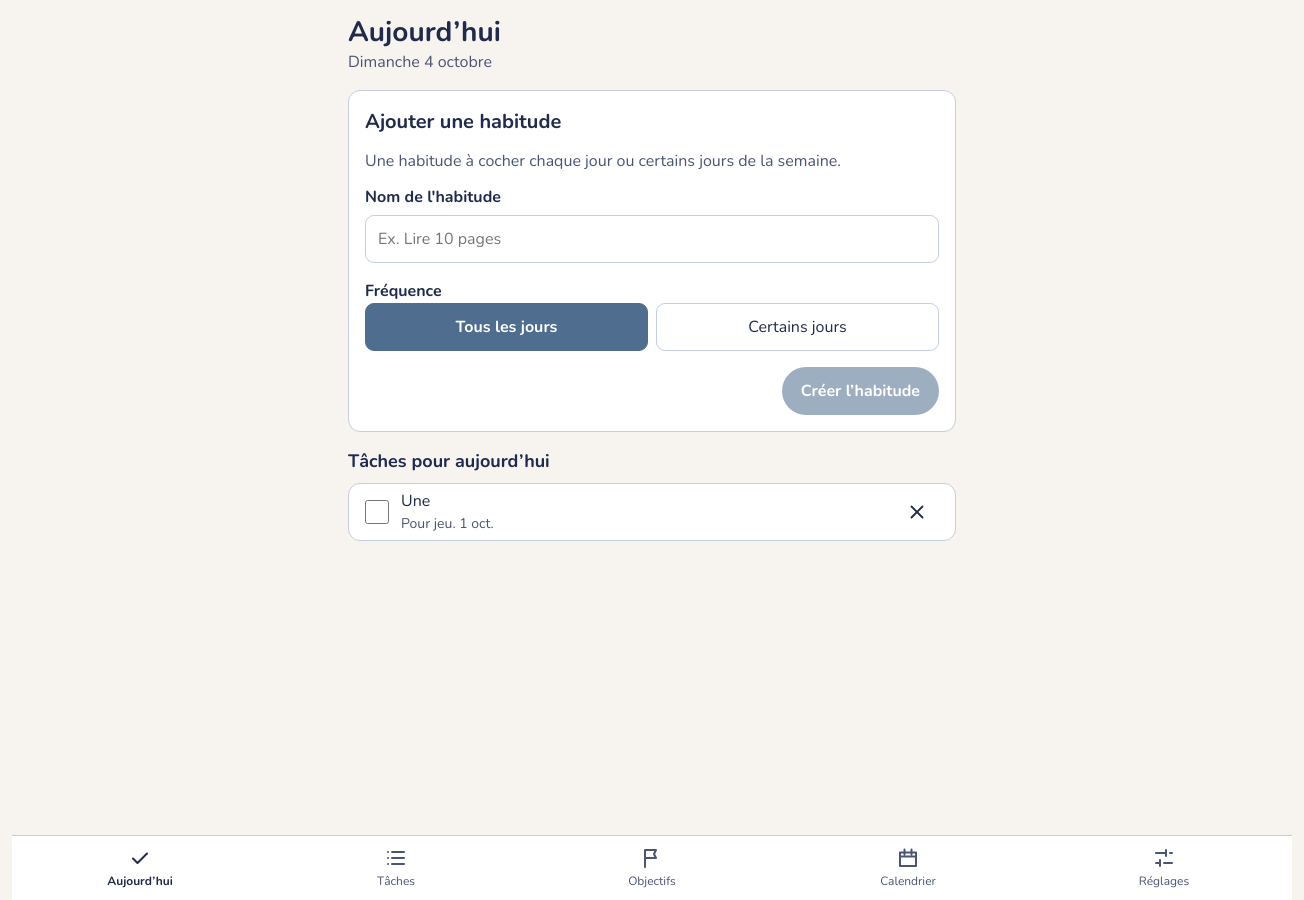
Test: écrans Tâches et Objectifs selon le thème › Montagne : la case à cocher d’une tâche garde le même nom, le même rôle et le même clavier
This screenshot has width=1304, height=900.
Click the button "Tâches". click: (396, 868)
box: [268, 836, 524, 899]
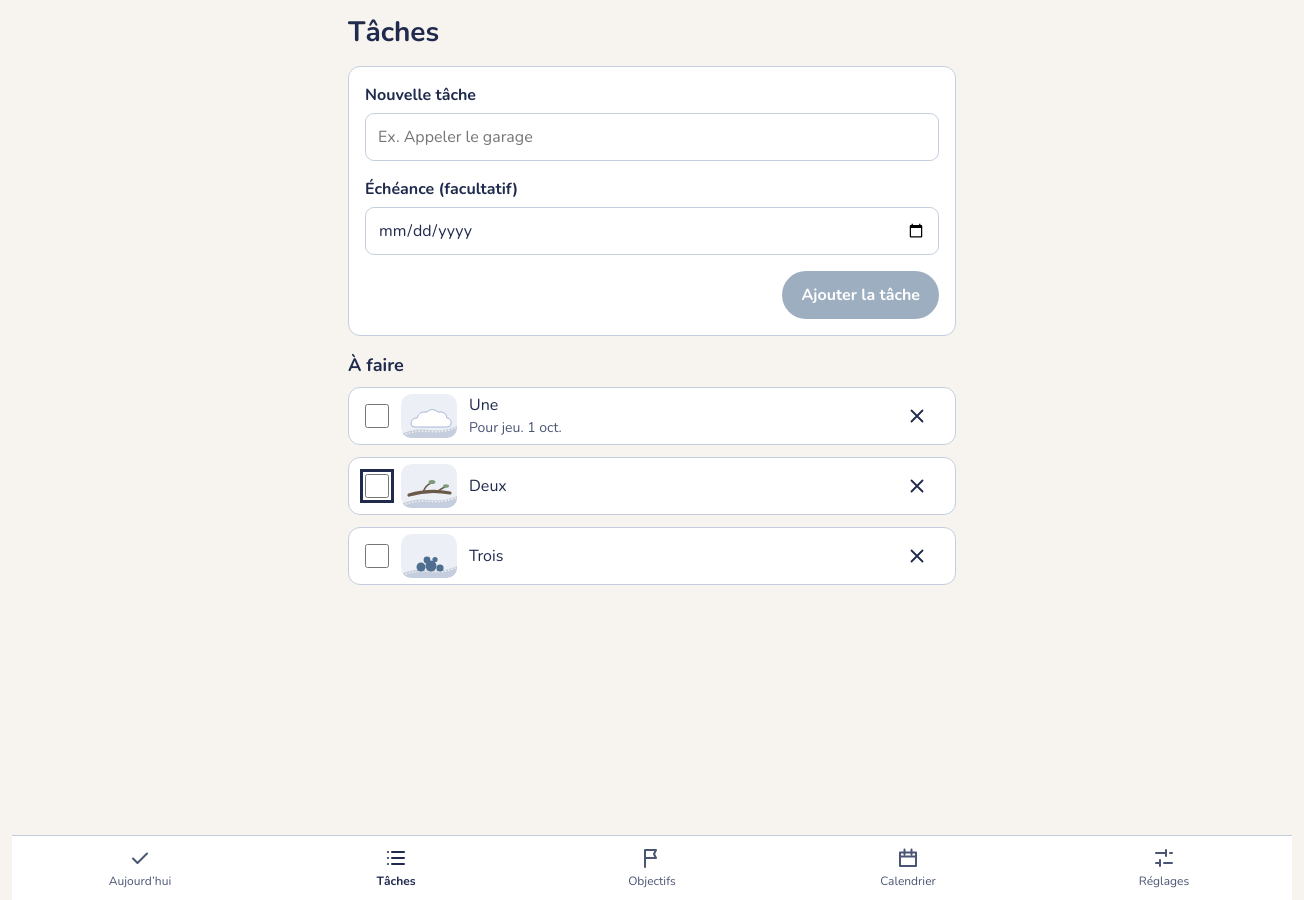
Expected: the number of list items is 3, [348, 387, 956, 445]; [348, 457, 956, 515]; [348, 527, 956, 585]
Type keys " "
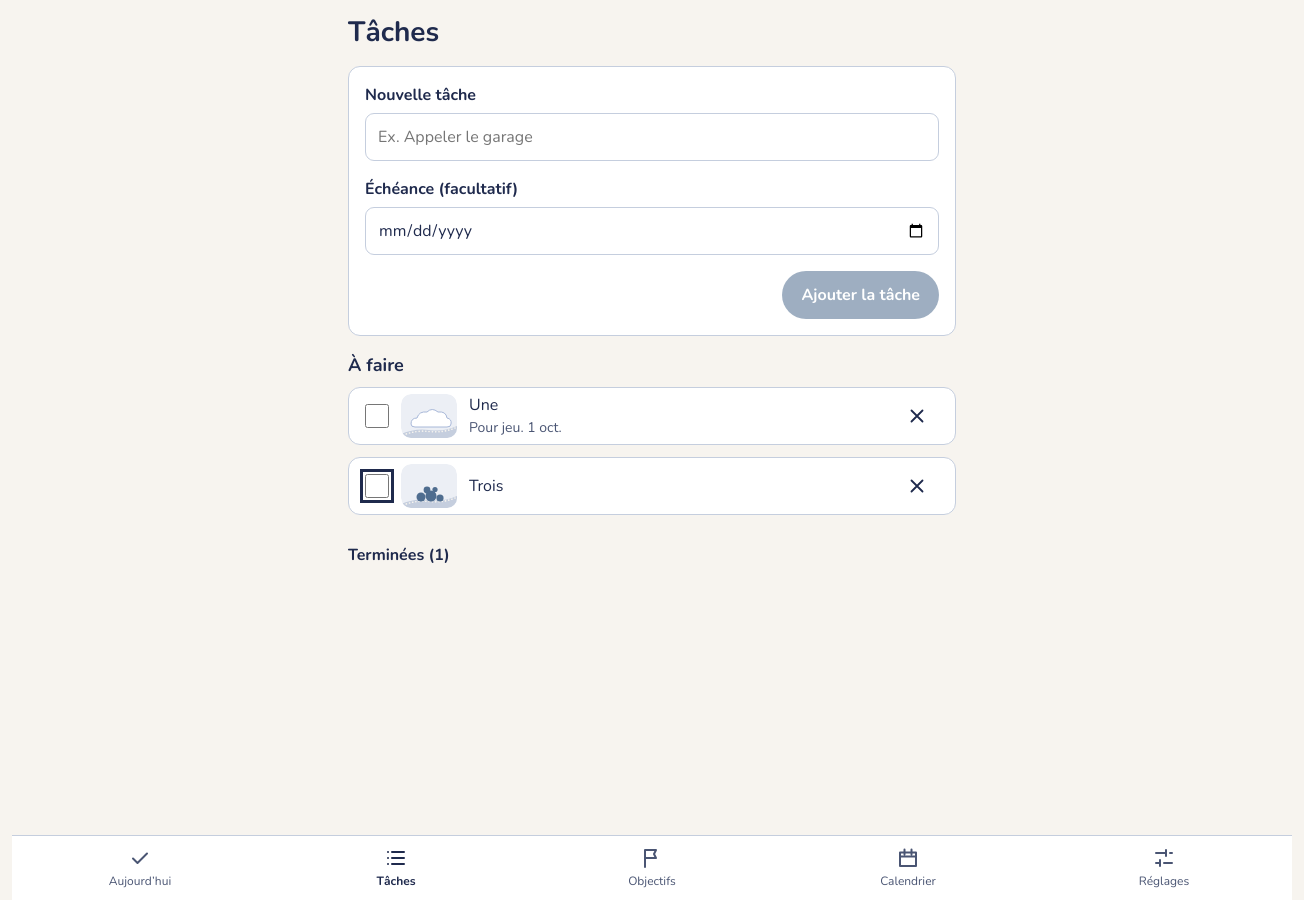
Expected: the heading "Terminées (1)" is shown, [348, 544, 450, 566]
